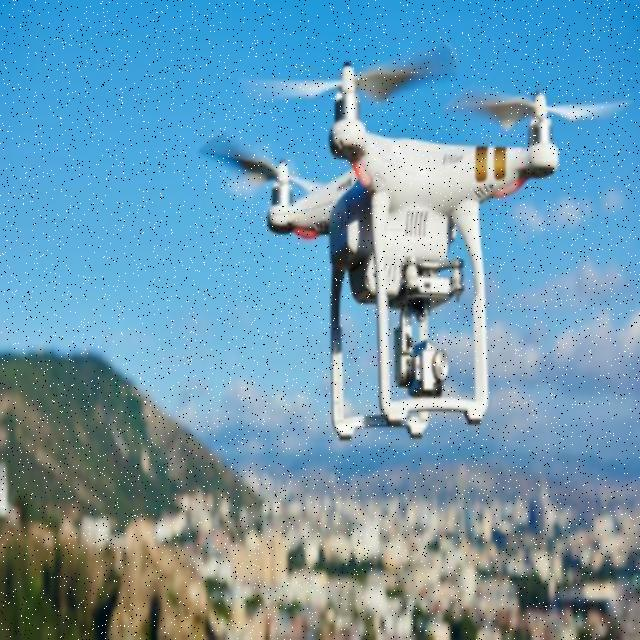UAV: (263, 56, 563, 450)
